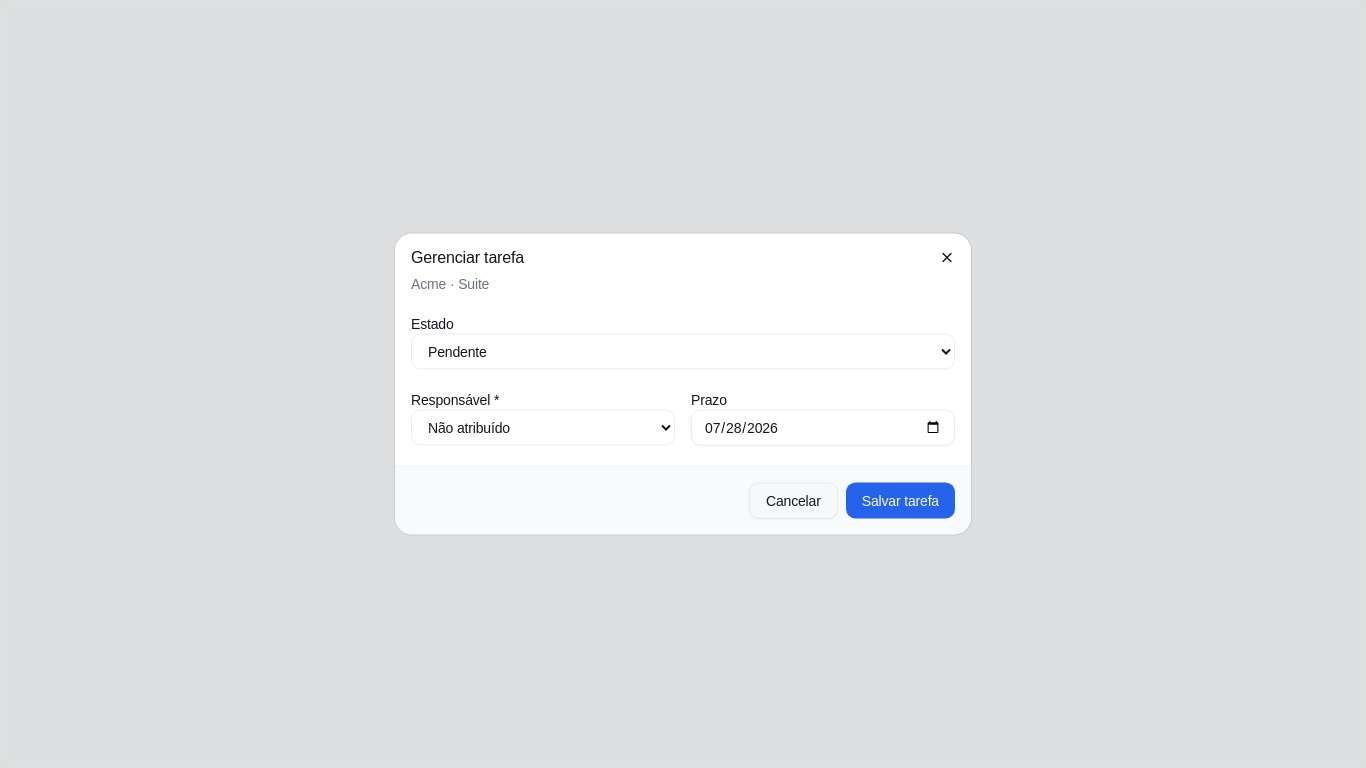
ActionTaskDialog › não transforma alerta em tarefa sem responsável
Click the button "Salvar tarefa".
click(900, 500)  # box [846,482,955,518]
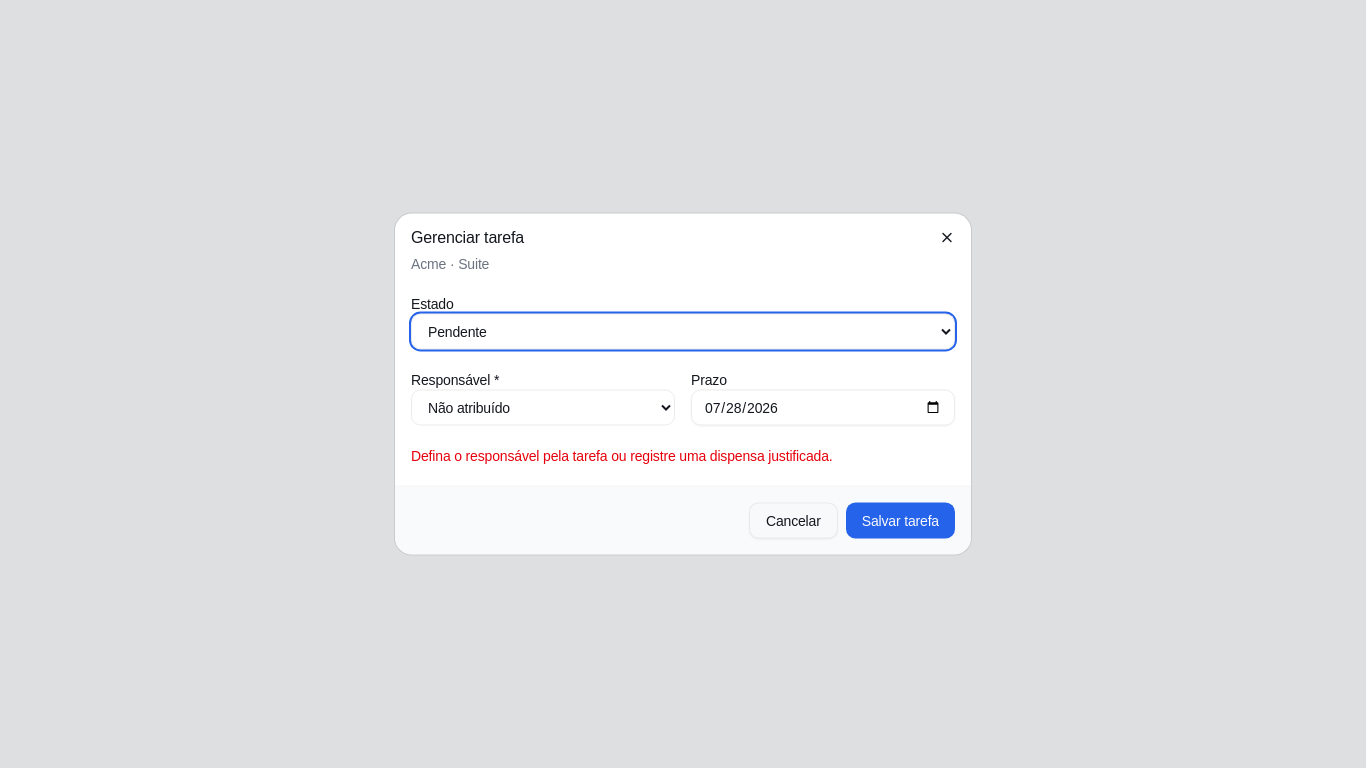
Now the message shows "responsável", box [411,448,832,464]
